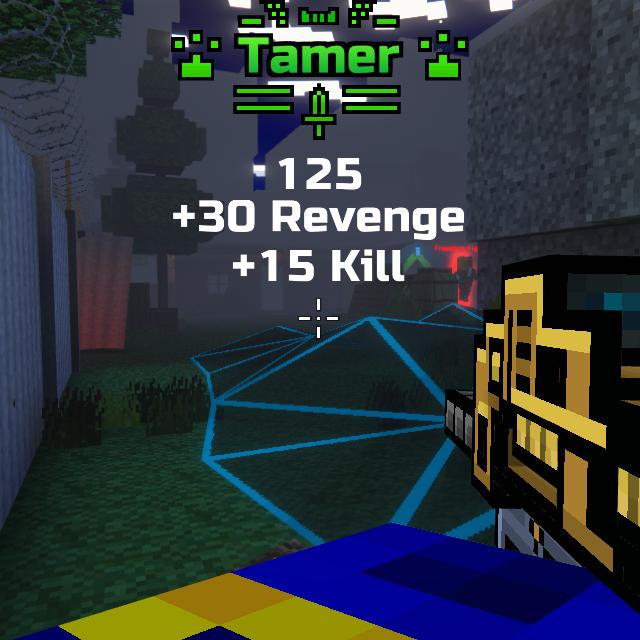Enemy: (454, 256, 477, 302)
